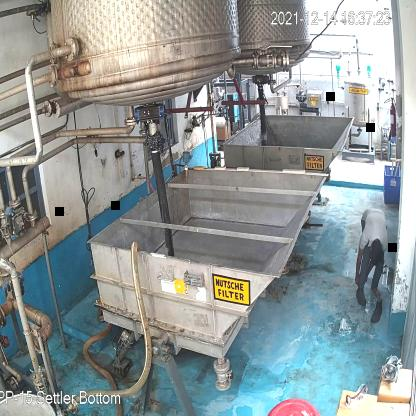no_shoes: (370, 280, 383, 300)
shoes: (370, 299, 384, 326), (354, 283, 367, 308)
